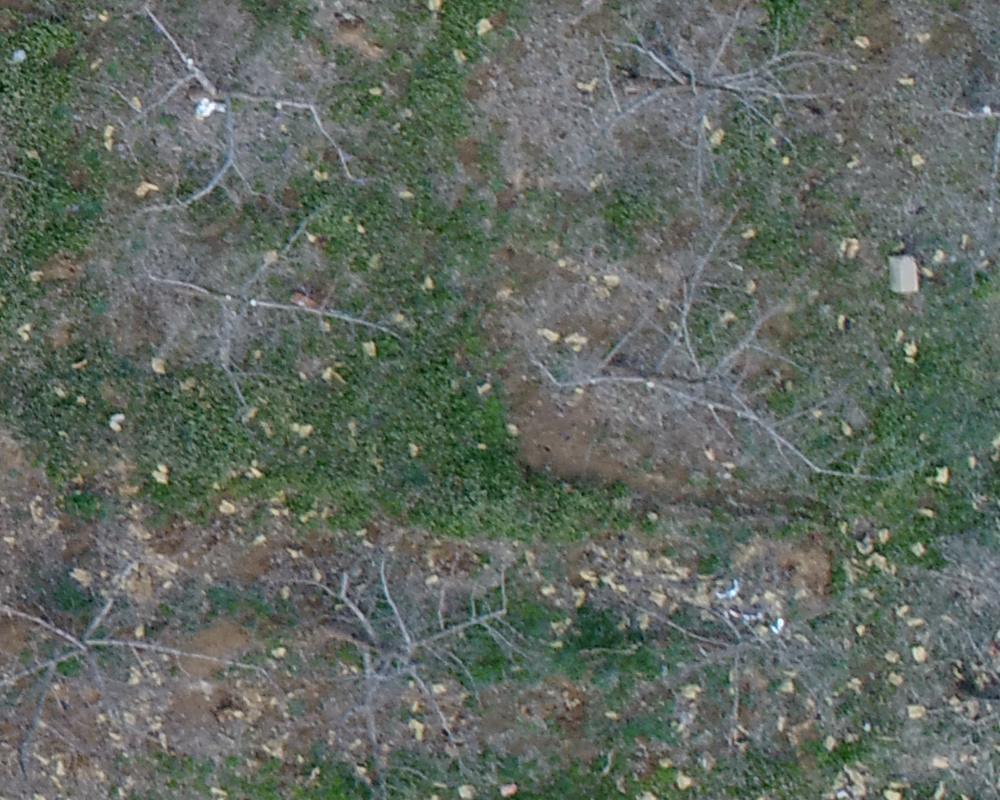apple: (523, 207, 912, 514), (73, 10, 385, 208), (257, 533, 509, 761), (604, 557, 859, 762), (10, 548, 237, 764), (141, 220, 408, 384), (583, 10, 844, 171)
